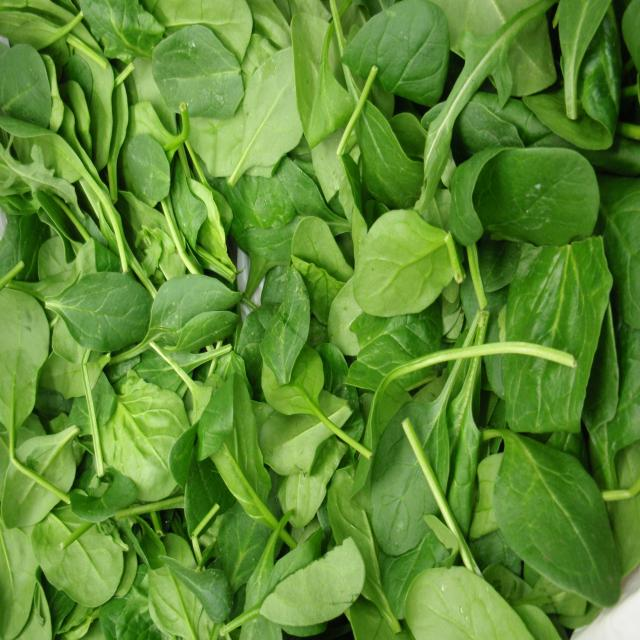spinach: (502, 441, 618, 613), (478, 144, 598, 241), (345, 0, 450, 105), (360, 209, 450, 316), (197, 383, 264, 512), (405, 563, 511, 640), (155, 24, 242, 116), (34, 516, 121, 600), (68, 273, 147, 349), (113, 385, 172, 484), (371, 449, 426, 548), (4, 432, 70, 514), (250, 60, 297, 172), (148, 565, 217, 640), (158, 280, 234, 348), (2, 293, 40, 417), (1, 43, 46, 116), (124, 138, 166, 200)
strawberry: (126, 136, 169, 202)
